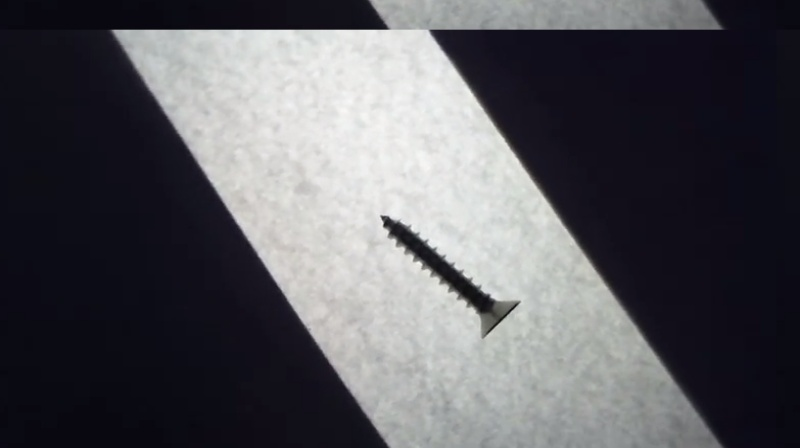S001: (374, 209, 527, 341)
